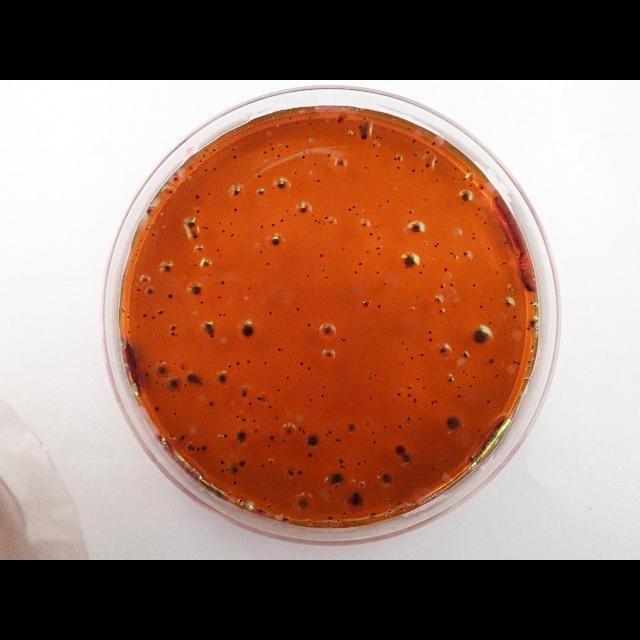colony: (472, 326, 491, 344), (445, 416, 461, 430), (328, 472, 344, 486), (304, 434, 320, 448), (240, 323, 256, 337), (460, 190, 474, 202), (402, 255, 416, 267), (235, 431, 247, 444), (394, 444, 406, 456), (321, 325, 333, 337), (348, 496, 362, 506), (187, 374, 200, 384), (297, 498, 309, 508), (190, 285, 202, 295), (276, 179, 288, 189), (335, 158, 347, 168), (411, 224, 422, 234), (382, 473, 392, 483), (169, 379, 179, 389), (346, 423, 356, 433), (146, 286, 154, 296), (298, 206, 308, 214), (270, 238, 280, 246), (202, 258, 210, 268), (256, 188, 266, 196), (232, 188, 242, 196), (218, 373, 226, 382), (462, 351, 470, 359), (403, 454, 411, 462), (238, 459, 246, 467), (158, 366, 166, 374), (286, 468, 294, 476), (447, 376, 455, 384), (284, 428, 294, 434), (362, 300, 371, 306), (282, 516, 290, 522), (231, 466, 237, 474), (164, 266, 172, 272), (191, 233, 199, 239), (360, 134, 368, 140), (268, 435, 276, 441), (505, 301, 513, 307), (204, 324, 212, 330), (439, 348, 447, 354), (325, 352, 333, 358), (186, 444, 192, 451), (188, 221, 195, 227), (530, 320, 536, 326), (489, 358, 495, 364), (353, 492, 359, 498), (201, 445, 207, 451), (154, 406, 160, 412), (168, 293, 174, 299), (142, 276, 148, 282), (194, 194, 200, 200), (326, 152, 332, 158), (348, 130, 354, 136), (158, 310, 165, 314), (208, 330, 215, 334), (440, 283, 444, 289), (371, 512, 377, 516), (220, 468, 224, 474), (180, 436, 186, 440), (170, 326, 176, 330), (170, 332, 176, 336), (142, 313, 148, 317), (358, 126, 364, 130), (512, 360, 518, 364), (339, 458, 343, 464), (308, 452, 312, 458), (298, 470, 302, 476), (257, 396, 263, 400), (208, 402, 214, 406), (226, 364, 232, 368), (221, 280, 225, 286), (317, 178, 321, 184), (233, 208, 239, 212), (296, 306, 300, 312), (306, 323, 312, 327), (414, 296, 420, 300), (197, 446, 200, 452), (368, 232, 374, 235), (480, 186, 484, 190), (487, 246, 491, 250), (463, 252, 467, 256), (444, 268, 448, 272), (472, 284, 476, 288), (526, 327, 530, 331), (494, 374, 498, 378), (487, 400, 491, 404), (444, 458, 448, 462), (431, 466, 435, 470), (402, 454, 406, 458), (342, 512, 346, 516), (328, 516, 332, 520), (238, 499, 242, 503), (233, 481, 237, 485), (220, 460, 224, 464), (145, 373, 149, 377), (154, 334, 158, 338), (152, 316, 156, 320), (137, 288, 141, 292), (198, 247, 202, 251), (230, 233, 234, 237), (169, 190, 173, 194), (174, 177, 178, 181), (301, 155, 305, 159), (288, 116, 292, 120), (308, 115, 312, 119), (432, 142, 436, 146), (414, 152, 418, 156), (425, 164, 429, 168), (397, 156, 401, 160), (502, 262, 506, 266), (509, 287, 513, 291), (335, 484, 339, 488), (398, 425, 402, 429), (302, 430, 306, 434), (298, 426, 302, 430), (282, 438, 286, 442), (261, 464, 265, 468), (224, 434, 228, 438), (248, 402, 252, 406), (242, 392, 246, 396), (268, 405, 272, 409), (236, 362, 240, 366), (424, 198, 428, 202), (378, 204, 382, 208), (434, 244, 438, 248), (358, 262, 362, 266), (354, 270, 358, 274), (383, 282, 387, 286), (322, 268, 326, 272), (306, 274, 310, 278), (325, 216, 329, 220), (280, 218, 284, 222), (260, 225, 264, 229), (266, 261, 270, 265), (248, 286, 252, 290), (210, 334, 214, 338), (200, 301, 204, 305), (152, 232, 156, 236), (219, 435, 223, 439), (410, 356, 414, 360), (429, 338, 433, 342), (428, 331, 432, 335), (397, 392, 401, 396), (407, 394, 411, 398), (406, 416, 410, 420), (418, 417, 422, 421), (286, 376, 290, 380), (307, 366, 311, 370), (300, 362, 304, 366), (277, 348, 281, 352), (264, 361, 268, 365), (247, 360, 251, 364), (348, 208, 352, 212), (257, 174, 261, 178), (294, 170, 298, 174), (313, 162, 317, 166), (342, 338, 346, 342), (364, 166, 368, 170), (275, 416, 279, 420), (452, 177, 456, 180), (472, 237, 476, 240), (451, 282, 454, 286), (192, 447, 195, 451), (217, 248, 220, 252), (205, 226, 208, 230), (229, 222, 233, 225), (197, 209, 200, 213), (202, 154, 205, 158), (205, 148, 208, 152), (295, 122, 299, 125), (426, 151, 429, 155), (328, 491, 332, 494), (341, 464, 344, 468), (372, 441, 376, 444), (242, 418, 245, 422), (237, 414, 240, 418), (532, 344, 534, 350), (377, 252, 381, 255), (378, 304, 380, 310), (321, 254, 324, 258), (172, 394, 175, 398), (270, 459, 272, 465), (369, 396, 373, 399), (421, 353, 424, 357), (401, 341, 404, 345), (434, 401, 438, 404), (422, 386, 426, 389), (321, 394, 324, 398), (436, 242, 439, 245), (470, 184, 472, 188), (462, 178, 466, 180), (498, 225, 502, 227), (454, 254, 456, 258), (480, 304, 482, 308), (488, 322, 492, 324), (513, 316, 517, 318), (518, 327, 522, 329), (462, 371, 466, 373), (472, 376, 476, 378), (470, 384, 472, 388), (458, 394, 460, 398), (384, 498, 388, 500), (388, 510, 392, 512), (337, 518, 339, 522), (352, 521, 356, 523), (268, 504, 270, 508), (264, 497, 266, 501), (174, 412, 176, 416), (200, 382, 202, 386), (168, 370, 172, 372), (165, 374, 167, 378), (148, 364, 150, 368), (193, 264, 197, 266), (218, 222, 222, 224), (214, 167, 216, 171), (214, 148, 216, 152), (233, 156, 237, 158), (232, 148, 234, 152), (219, 146, 221, 150), (264, 150, 266, 154), (272, 147, 274, 151), (270, 142, 272, 146), (278, 154, 280, 158), (286, 145, 288, 149), (380, 136, 382, 140), (372, 144, 376, 146), (412, 140, 416, 142), (412, 142, 416, 144), (412, 170, 416, 172), (420, 170, 424, 172), (436, 179, 438, 183), (454, 168, 458, 170), (496, 270, 498, 274), (440, 310, 444, 312), (528, 366, 532, 368), (358, 462, 360, 466), (372, 432, 374, 436), (367, 422, 369, 426), (336, 438, 338, 442), (339, 438, 341, 442), (268, 443, 270, 447), (490, 297, 492, 301), (523, 264, 525, 268), (409, 210, 411, 214), (408, 220, 412, 222), (386, 200, 390, 202), (374, 226, 378, 228), (424, 242, 428, 244), (423, 264, 425, 268), (420, 271, 422, 275), (405, 266, 407, 270), (378, 236, 380, 240), (376, 248, 380, 250), (376, 272, 380, 274), (324, 277, 328, 279), (342, 247, 344, 251), (314, 220, 318, 222), (294, 213, 296, 217), (272, 223, 274, 227), (260, 250, 262, 254), (218, 296, 222, 298), (219, 314, 223, 316), (208, 274, 212, 276), (140, 238, 142, 242), (136, 249, 140, 251), (122, 310, 126, 312), (127, 316, 131, 318), (374, 374, 378, 376), (401, 361, 403, 365), (432, 401, 434, 405), (416, 378, 420, 380), (278, 388, 280, 392), (281, 348, 283, 352), (352, 206, 356, 208), (355, 213, 359, 215), (362, 224, 366, 226), (270, 311, 272, 315), (376, 154, 378, 158), (342, 130, 346, 132), (322, 386, 326, 388), (310, 398, 312, 402), (473, 232, 475, 235), (481, 217, 483, 220), (461, 361, 463, 364), (182, 366, 184, 369), (156, 381, 158, 384), (128, 331, 130, 334), (220, 255, 222, 258), (208, 192, 210, 195), (205, 169, 208, 171), (200, 160, 202, 163), (310, 122, 312, 125), (435, 160, 437, 163), (396, 166, 399, 168), (528, 361, 530, 364), (364, 461, 366, 464), (329, 431, 331, 434), (367, 250, 369, 253), (330, 220, 332, 223), (323, 222, 325, 225), (318, 220, 320, 223), (369, 376, 371, 379), (409, 386, 411, 389), (276, 401, 278, 404), (478, 208, 480, 210), (476, 214, 478, 216), (484, 222, 486, 224), (504, 242, 506, 244), (450, 252, 452, 254), (503, 333, 505, 335), (466, 374, 468, 376), (458, 386, 460, 388), (478, 429, 480, 431), (367, 481, 369, 483), (370, 515, 372, 517), (308, 520, 310, 522), (314, 519, 316, 521), (230, 492, 232, 494), (226, 469, 228, 471), (170, 435, 172, 437), (184, 384, 186, 386), (160, 360, 162, 362), (140, 378, 142, 380), (137, 326, 139, 328), (202, 226, 204, 228), (222, 230, 224, 232), (190, 167, 192, 169), (340, 118, 342, 120), (338, 120, 340, 122), (364, 118, 366, 120), (392, 130, 394, 132), (376, 136, 378, 138), (408, 128, 410, 130), (424, 138, 426, 140), (394, 158, 396, 160), (530, 302, 532, 304), (534, 305, 536, 307), (518, 362, 520, 364), (343, 466, 345, 468), (326, 434, 328, 436), (254, 430, 256, 432), (254, 420, 256, 422), (330, 498, 332, 500), (286, 210, 288, 212), (224, 314, 226, 316), (146, 228, 148, 230), (136, 253, 138, 255), (121, 308, 123, 310), (406, 348, 408, 350), (414, 399, 416, 401), (414, 401, 416, 403), (272, 188, 274, 190)
